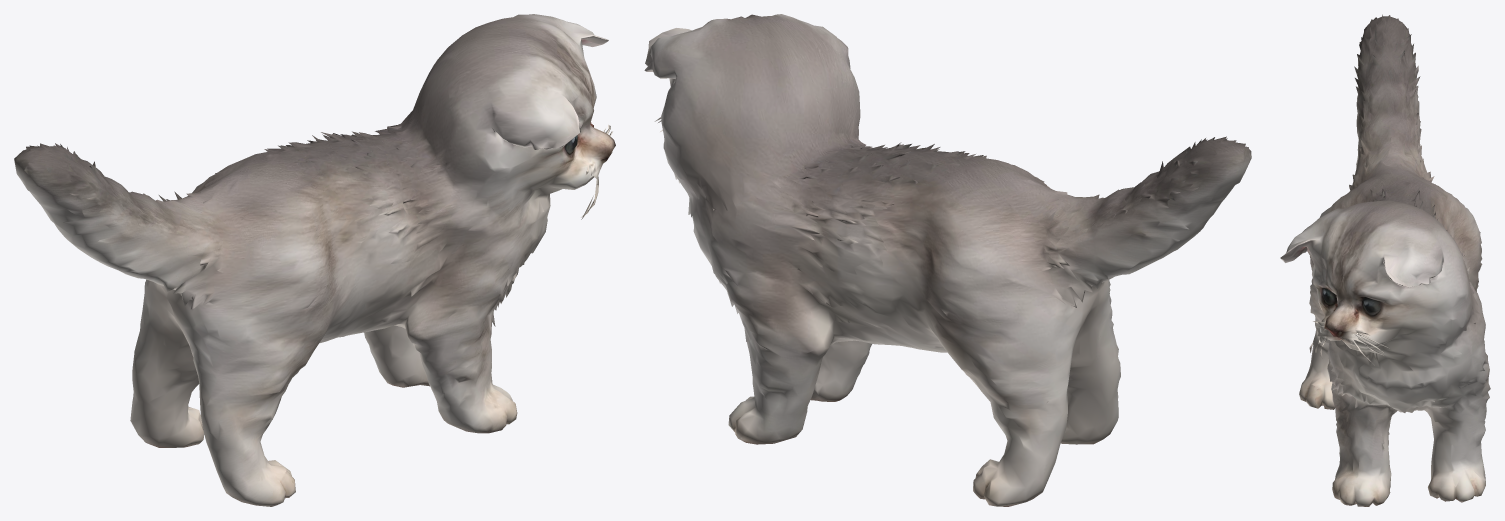
Rendered from LIDNAP.glb.
3 renders of one model, left to right at view 1: azimuth 30°, elevation 25°; view 2: azimuth 150°, elevation 25°; view 3: azimuth 270°, elevation 25°, orthographic. The views are drawn at different scales.
Visible parts, largest first — view 1: tripo_node_76b8484e-7f94-49e8-b8c3-2b4c036ffd32; view 2: tripo_node_76b8484e-7f94-49e8-b8c3-2b4c036ffd32; view 3: tripo_node_76b8484e-7f94-49e8-b8c3-2b4c036ffd32.
Part boxes in pixels (bbox=[...]): tripo_node_76b8484e-7f94-49e8-b8c3-2b4c036ffd32: bbox=[14, 14, 615, 506]; tripo_node_76b8484e-7f94-49e8-b8c3-2b4c036ffd32: bbox=[644, 14, 1251, 506]; tripo_node_76b8484e-7f94-49e8-b8c3-2b4c036ffd32: bbox=[1280, 14, 1490, 506].
Size of the model in its own units: 1.67 by 1 by 0.6166.
Materials: 1 (1 with a texture image).
